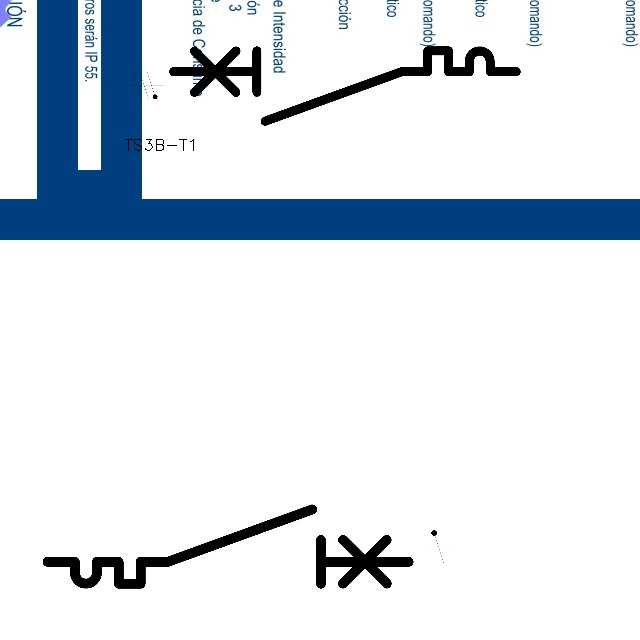interruptor_termomagnetico: (38, 500, 418, 593), (164, 42, 524, 130)
